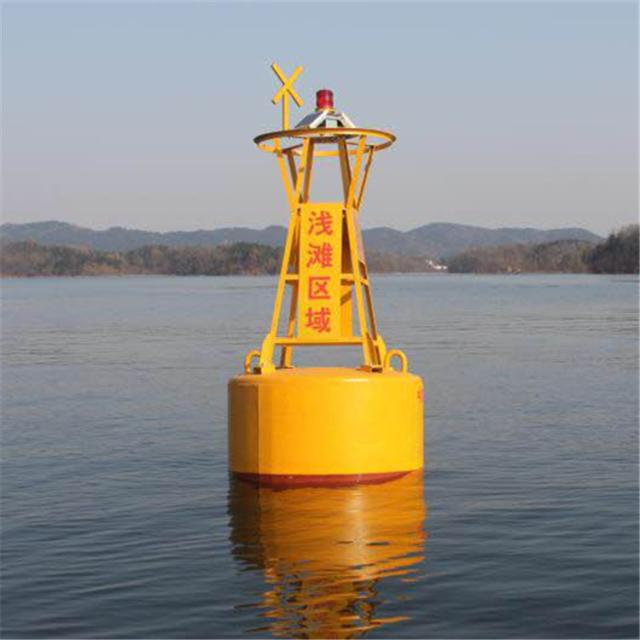buoy: (223, 57, 435, 479)
